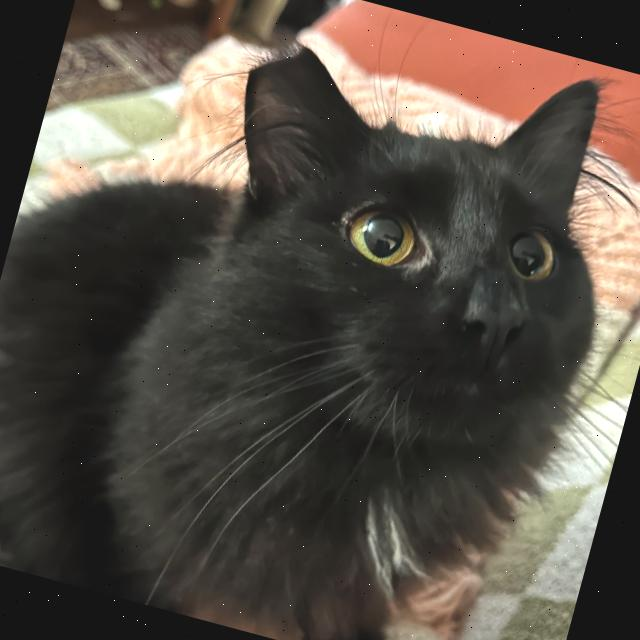domestic_long_hair_cat: (131, 0, 640, 572)
